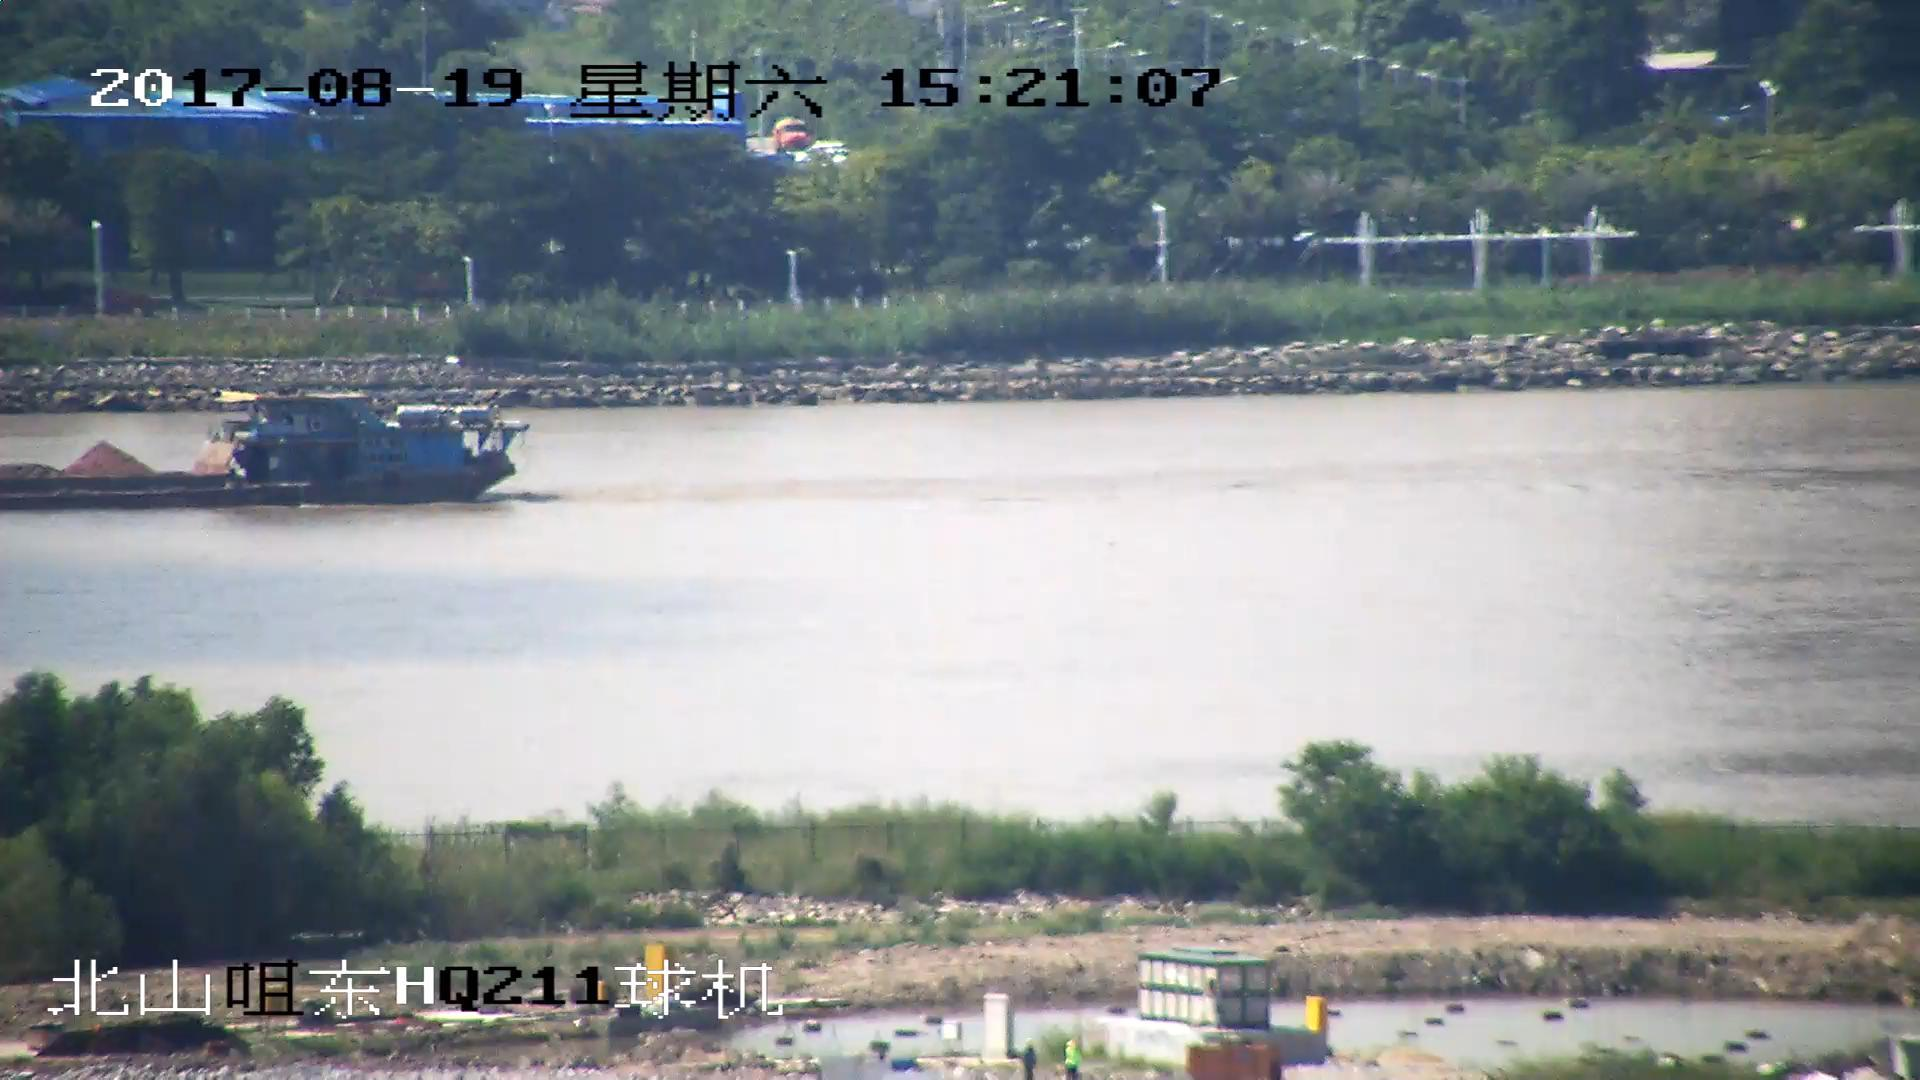Ship: (3, 385, 520, 513)
